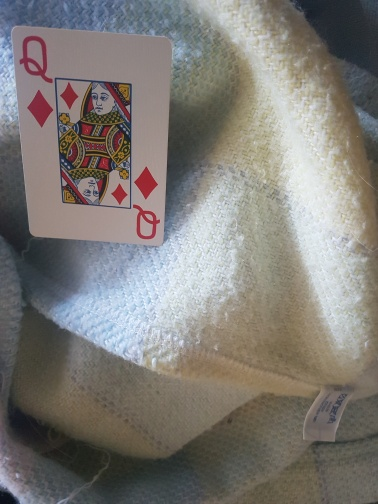queen: (11, 25, 171, 246)
